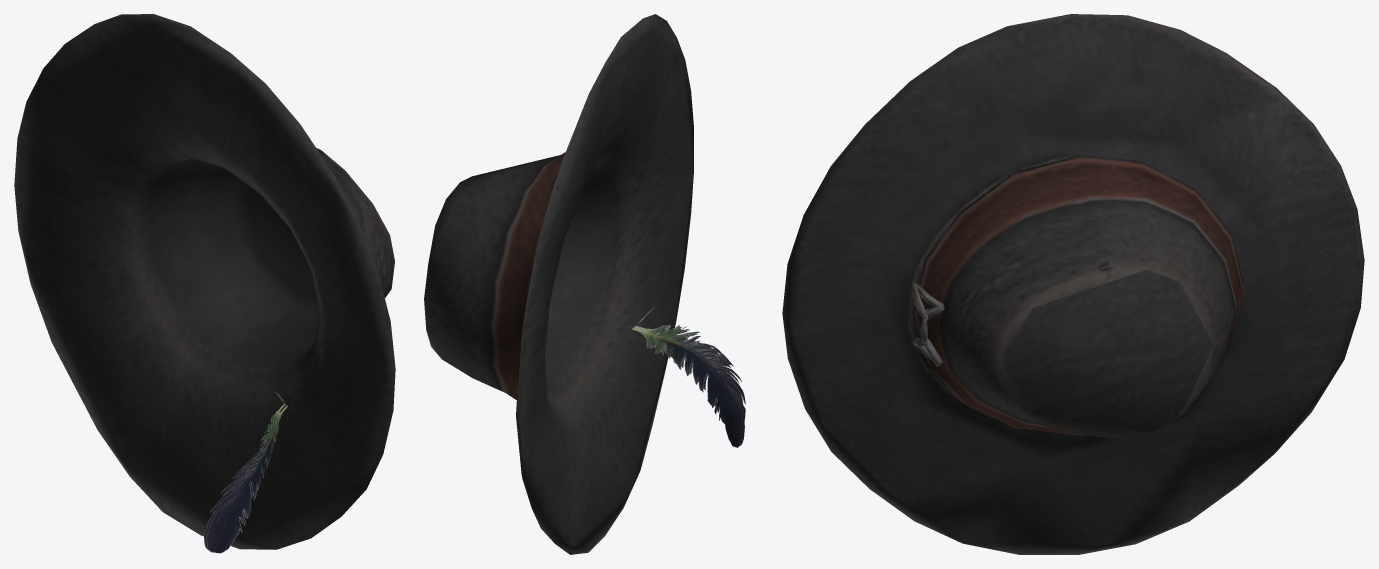
Rendered from F_BrimmedHat.fbx.
3 renders of one model, left to right at view 1: azimuth 30°, elevation 25°; view 2: azimuth 150°, elevation 25°; view 3: azimuth 270°, elevation 25°, orthographic. The views are drawn at different scales.
Parts seen in each view (by area): view 1: BrimmedHat; view 2: BrimmedHat; view 3: BrimmedHat.
Boxes of the visible parts, left/top/right/bottom form: BrimmedHat: left=14, top=14, right=395, bottom=553; BrimmedHat: left=424, top=14, right=745, bottom=554; BrimmedHat: left=782, top=14, right=1364, bottom=554.
Size of the model in its own units: 0.111 by 0.2259 by 0.2238.
